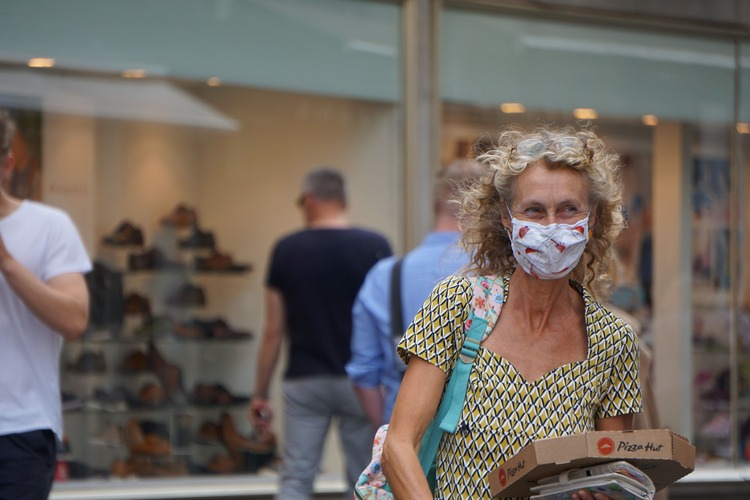with_mask: (512, 188, 588, 265)
